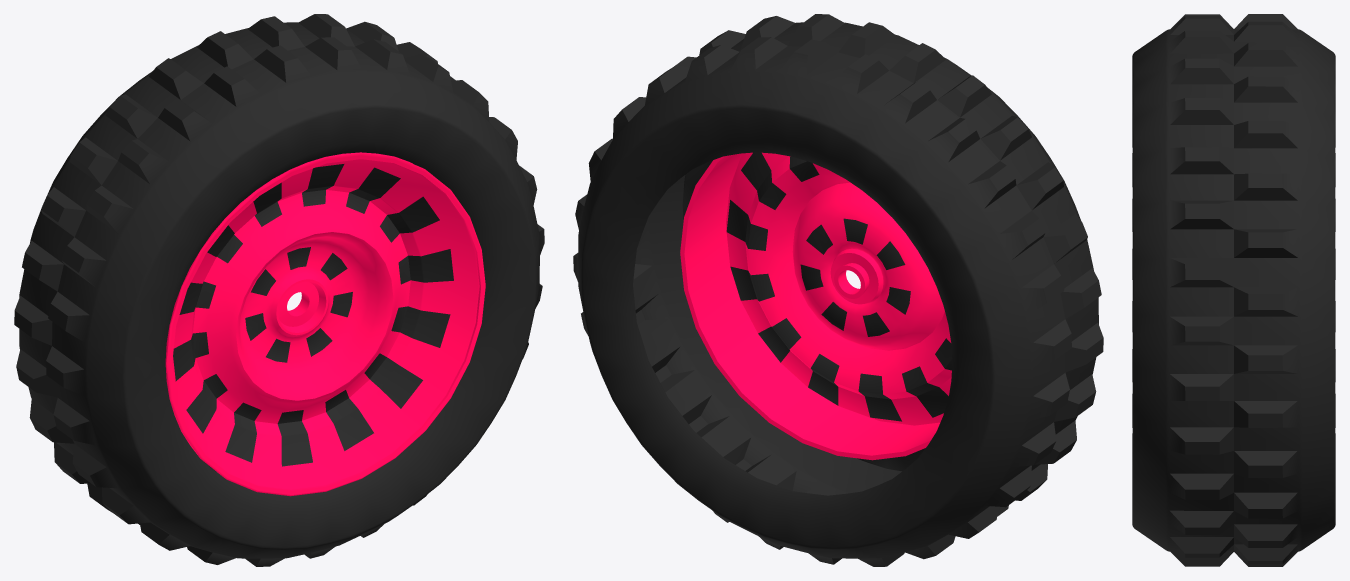
Rendered from fiat500_wheel.dae.
3 renders of one model, left to right at view 1: azimuth 30°, elevation 25°; view 2: azimuth 150°, elevation 25°; view 3: azimuth 270°, elevation 25°, orthographic.
Parts seen in each view (by area): view 1: Hummer_008; view 2: Hummer_008; view 3: Hummer_008.
Part boxes in pixels (left/top/right/bottom): Hummer_008: left=14, top=14, right=544, bottom=566; Hummer_008: left=573, top=14, right=1103, bottom=566; Hummer_008: left=1132, top=14, right=1335, bottom=566.
Bounding box in the file's own units: 1.04 × 0.3819 × 1.04.
